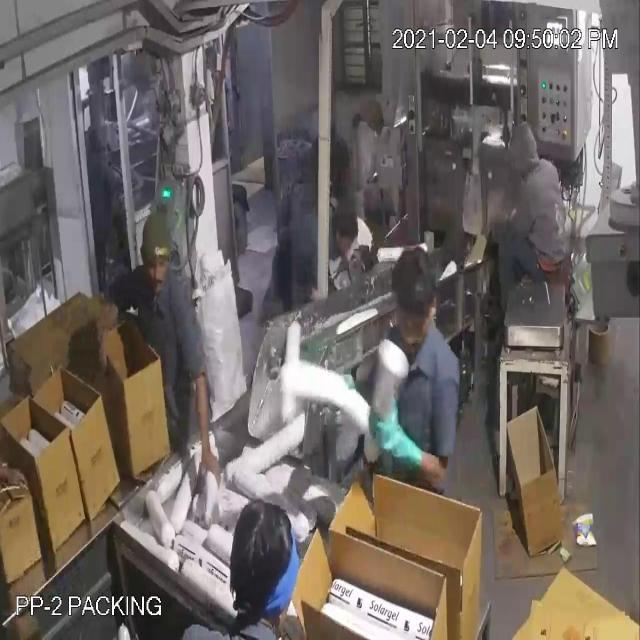No_Gloves: (42, 100, 395, 438)
